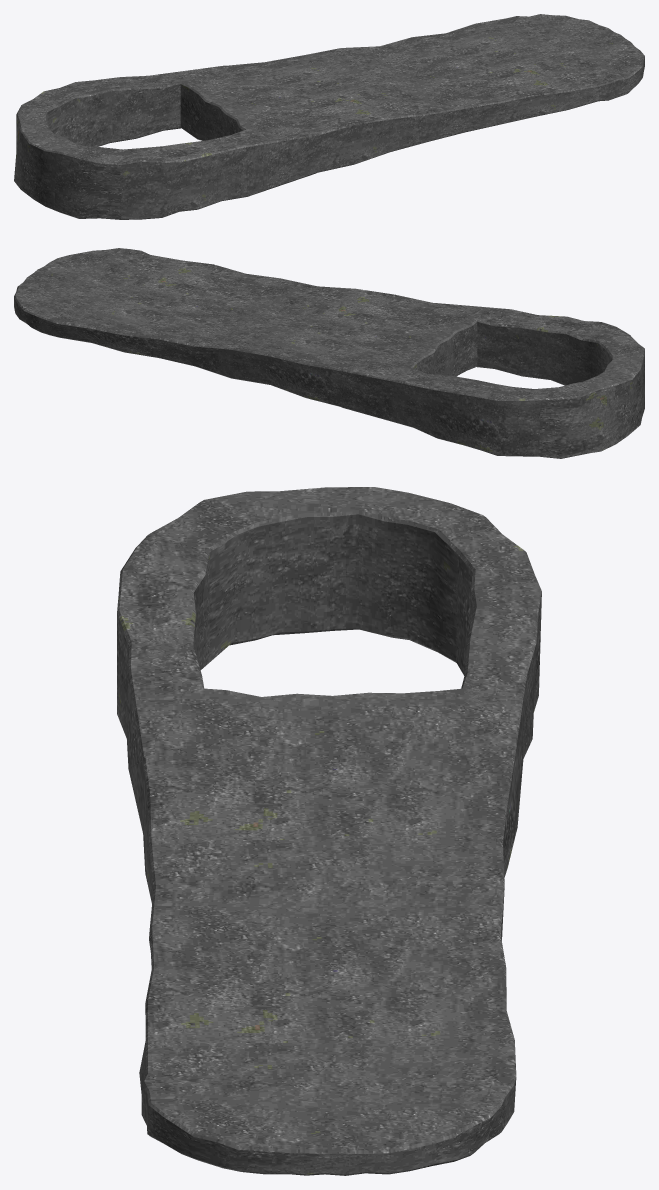
The model's file is Choutou.obj.
3 renders of one model, top to bottom at view 1: azimuth 30°, elevation 25°; view 2: azimuth 150°, elevation 25°; view 3: azimuth 270°, elevation 25°, orthographic. The views are drawn at different scales.
Visible parts, largest first — view 1: chutou; view 2: chutou; view 3: chutou.
Part boxes in pixels (x1,y1,x2,y2): chutou: (14, 14, 644, 219); chutou: (14, 248, 644, 458); chutou: (117, 487, 541, 1175).
Bounding box in the file's own units: 18.28 × 1.83 × 5.63.
1 material, 1 textured.
